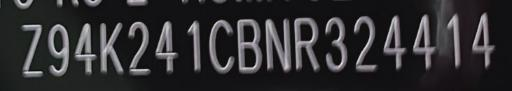letter: (466, 7, 502, 74), (438, 10, 472, 75), (260, 14, 296, 75), (351, 13, 383, 80), (232, 13, 264, 80), (94, 20, 130, 79), (379, 14, 411, 77), (208, 16, 240, 79), (292, 14, 326, 73), (411, 11, 441, 76), (151, 18, 181, 81), (16, 20, 48, 79), (44, 22, 76, 81), (322, 14, 352, 75), (179, 16, 209, 73), (125, 19, 153, 80), (72, 20, 100, 79)
